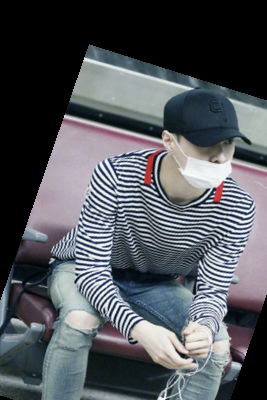mask_weared_incorrect: (151, 70, 260, 192)
